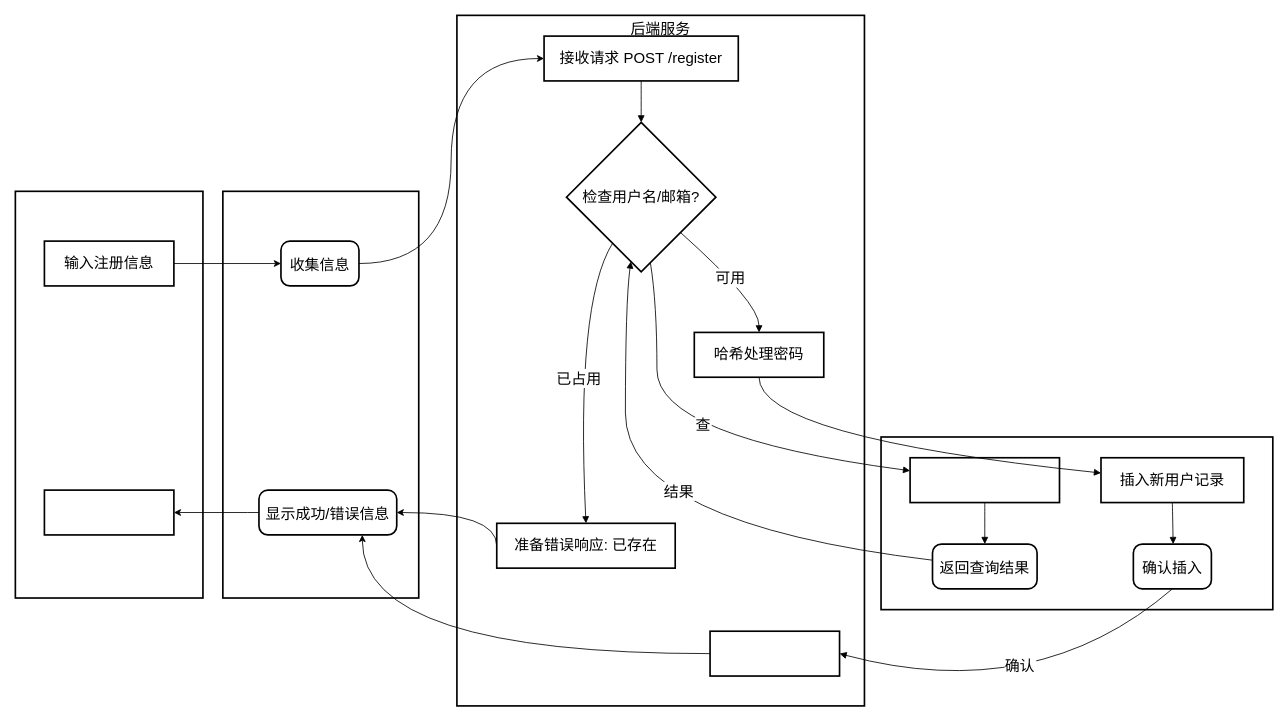
Some shapes in this 1287 by 720 pixel diagram are drawn without their labels. The shapes that lost their labels are listed below. From the top down, each one's box as (x1, y1, x2, y2) in pixels, then its label:
(14, 190, 203, 598): 用户
(222, 190, 419, 598): 前端界面
(909, 456, 1060, 503): 查询用户名/邮箱
(43, 489, 174, 535): 查看注册结果
(880, 436, 1273, 610): 数据库
(709, 630, 840, 676): 准备成功响应
